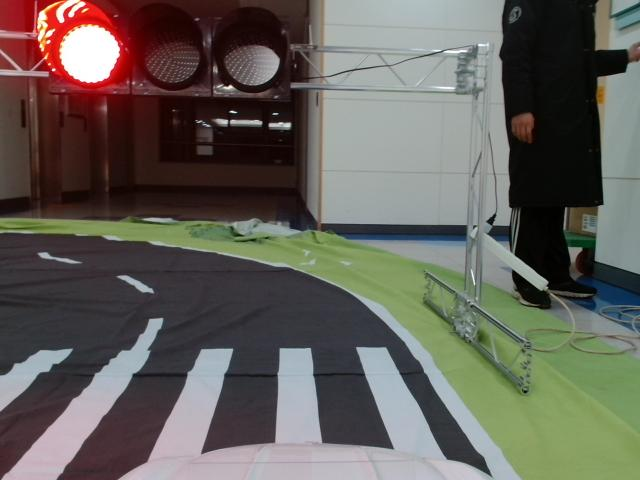crosswalk: (2, 346, 451, 480)
traffic light-red-: (37, 1, 293, 101)
